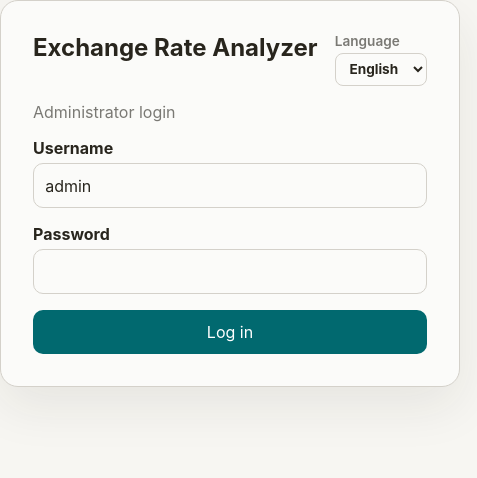
LoginForm › shows translated error after failed login
Type "wrong" into the password field labelled "Password" at (230, 272), box [33,249,427,294]
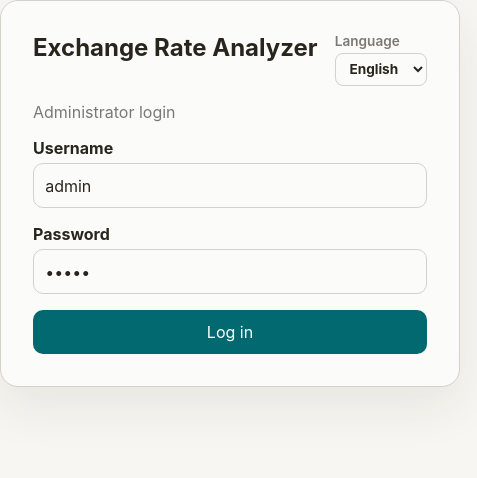
Click the button "Log in" at (230, 332), box [33,310,427,354]
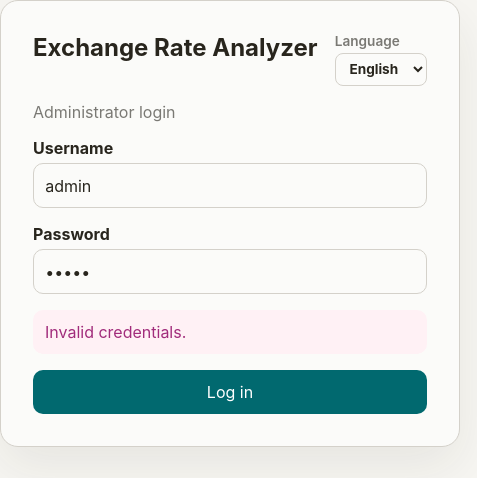
expect the text "Invalid credentials." is shown: met, box [33,310,427,354]
